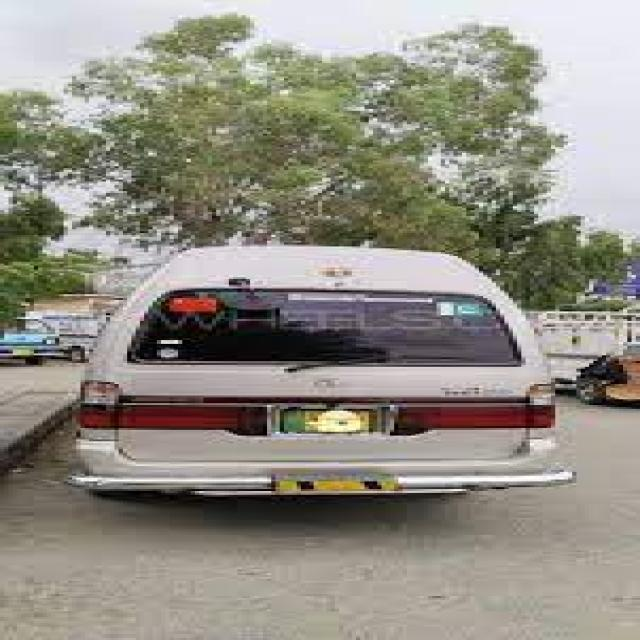van: (68, 246, 572, 495)
